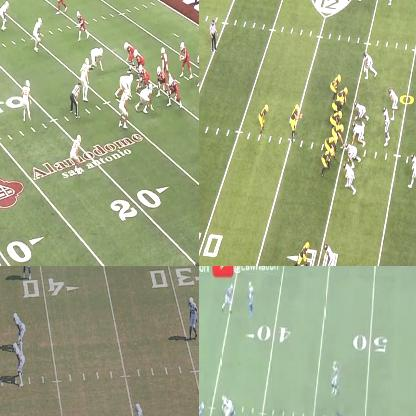CENTER: (136, 65, 148, 92), (332, 124, 344, 149)
DB: (70, 132, 84, 169), (20, 78, 33, 117), (187, 297, 198, 340), (246, 283, 255, 318), (0, 1, 10, 31), (408, 151, 415, 193), (323, 244, 337, 265), (332, 360, 339, 393), (136, 399, 144, 415), (385, 0, 395, 10), (24, 266, 32, 278)
LB: (79, 56, 91, 101), (13, 340, 22, 384), (388, 88, 400, 118), (381, 107, 391, 143), (343, 162, 355, 192), (14, 311, 25, 342), (119, 90, 128, 127), (32, 18, 43, 47), (365, 52, 377, 78), (223, 407, 233, 415)
QB: (180, 43, 192, 83), (288, 105, 298, 144)
SKILL: (76, 8, 89, 41), (296, 240, 310, 265), (259, 105, 269, 135), (224, 285, 233, 312), (330, 73, 340, 97), (54, 0, 68, 13), (162, 48, 170, 67), (196, 54, 198, 86)
